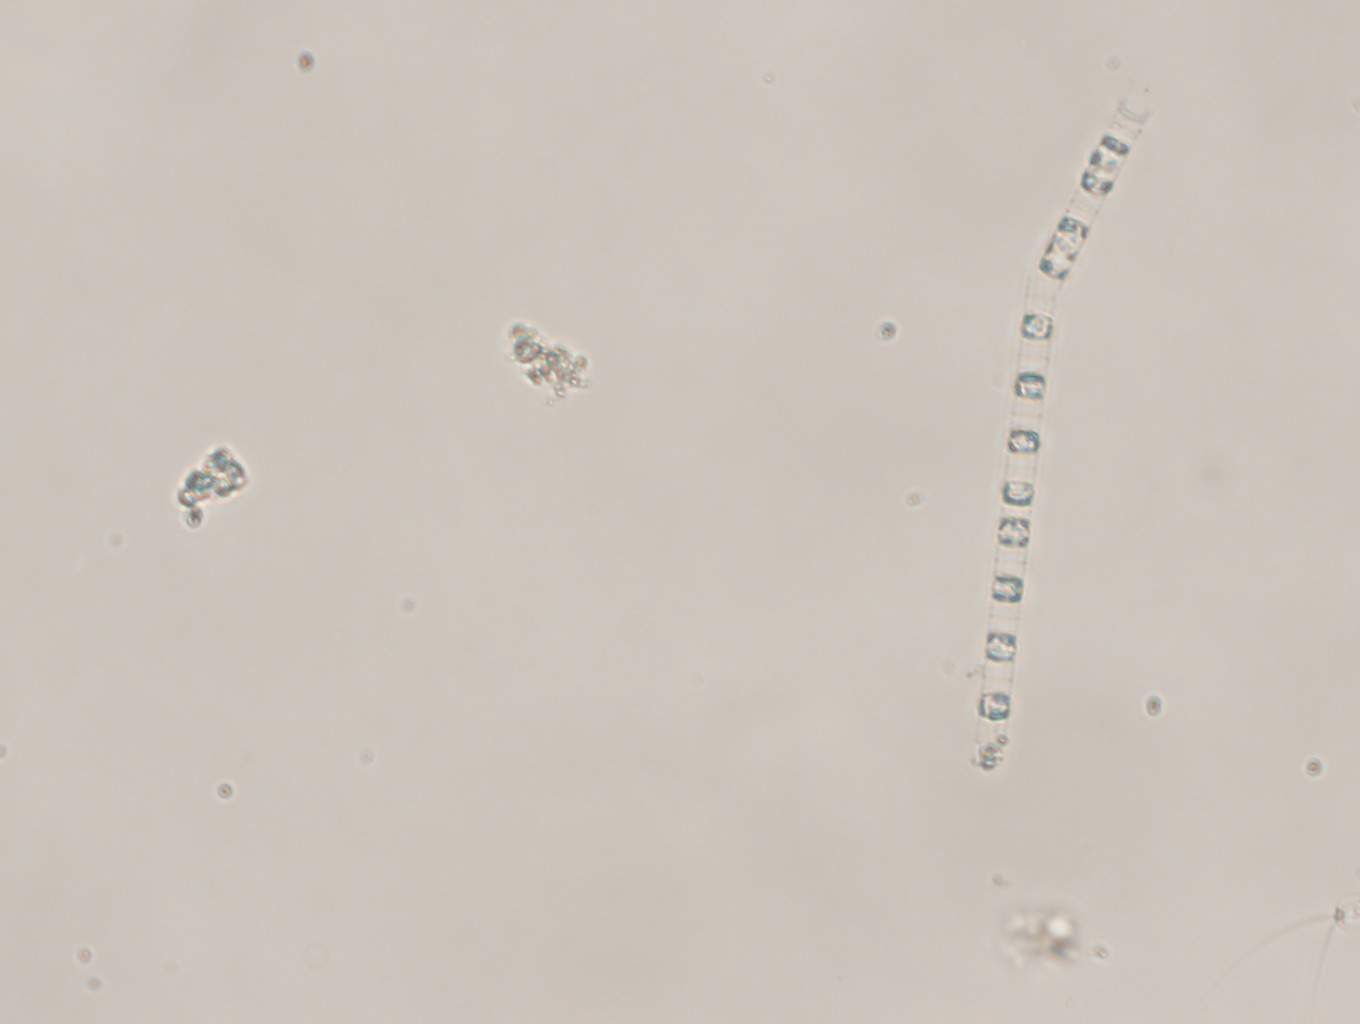skeletonema: (960, 290, 1062, 787), (1025, 79, 1155, 295)
